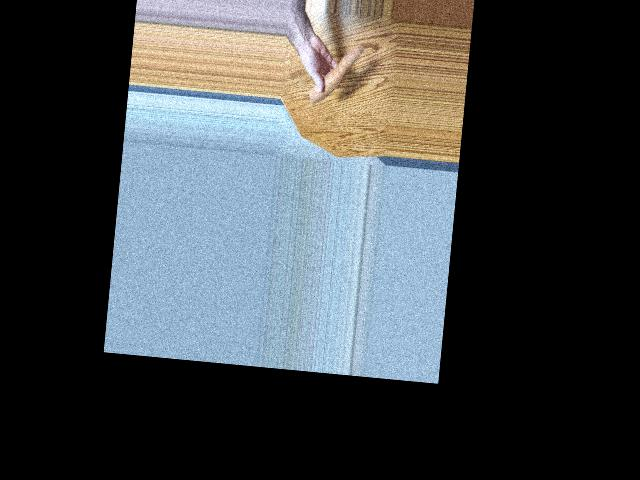sweet_potato: (307, 41, 361, 102)
